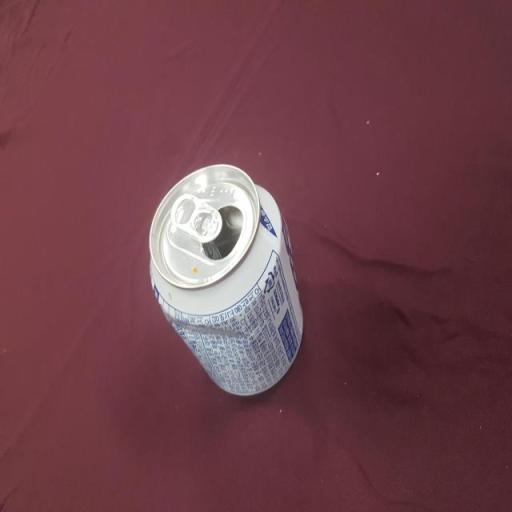metal: (128, 147, 309, 407)
